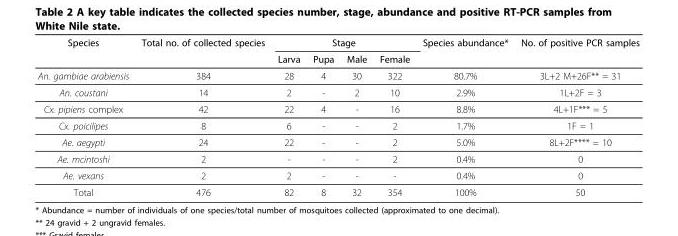table: (37, 36, 638, 197)
table column: (134, 36, 270, 197), (513, 36, 638, 197), (415, 36, 513, 197), (37, 36, 134, 197), (372, 36, 415, 197), (270, 36, 305, 197), (305, 36, 339, 197), (339, 36, 372, 197)
table column header: (37, 36, 638, 67)
table row: (37, 50, 638, 67), (37, 83, 638, 100), (37, 100, 638, 117), (37, 133, 638, 150), (37, 166, 638, 183), (37, 67, 638, 83), (37, 117, 638, 133), (37, 150, 638, 166), (37, 36, 638, 50), (37, 183, 638, 197)
table spanning cell: (134, 36, 270, 67), (513, 36, 638, 67), (415, 36, 513, 67), (37, 36, 134, 67), (270, 36, 415, 50)
